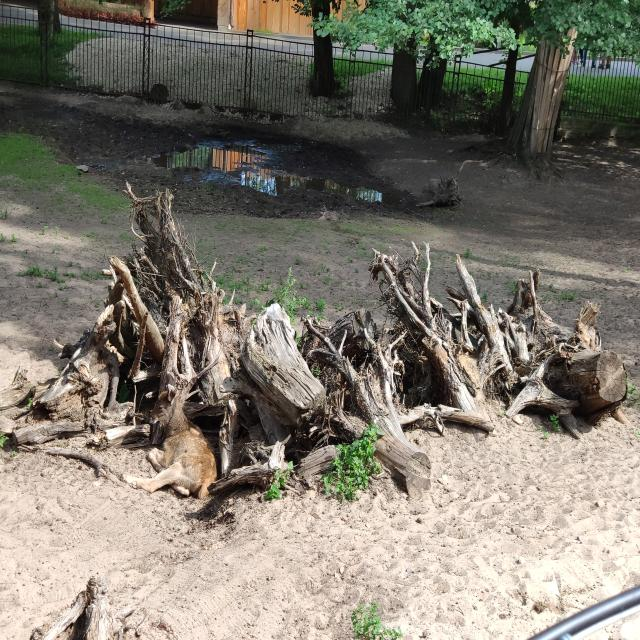restos de madeira: (99, 252, 228, 458), (440, 252, 533, 428), (326, 358, 435, 508), (540, 298, 632, 428), (242, 312, 326, 434), (36, 340, 126, 436), (4, 438, 117, 481), (210, 457, 308, 502), (155, 295, 193, 395), (162, 207, 210, 281), (379, 270, 430, 338), (453, 253, 491, 330), (2, 418, 90, 450), (105, 256, 147, 318), (0, 365, 37, 416), (338, 312, 380, 352), (129, 309, 149, 386), (101, 422, 150, 448), (128, 208, 152, 246), (506, 279, 529, 317), (123, 180, 156, 206), (223, 297, 246, 331)
terra: (496, 44, 518, 138)
